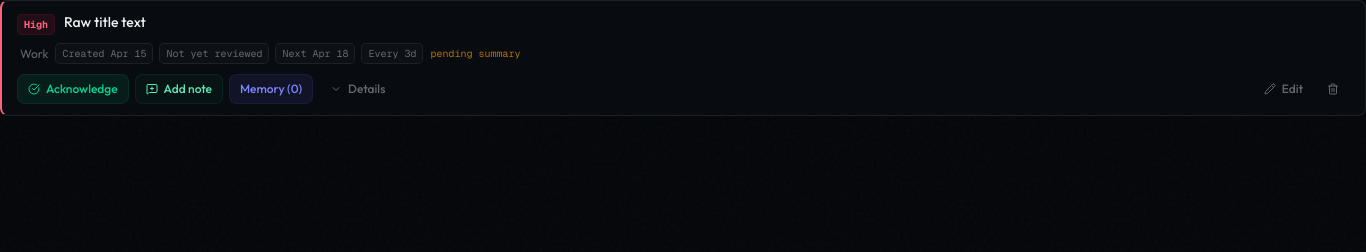
Test: TriggerCard › shows full_content when Details expander is toggled
Click the button "Details": (358, 89) [320,75,395,103]
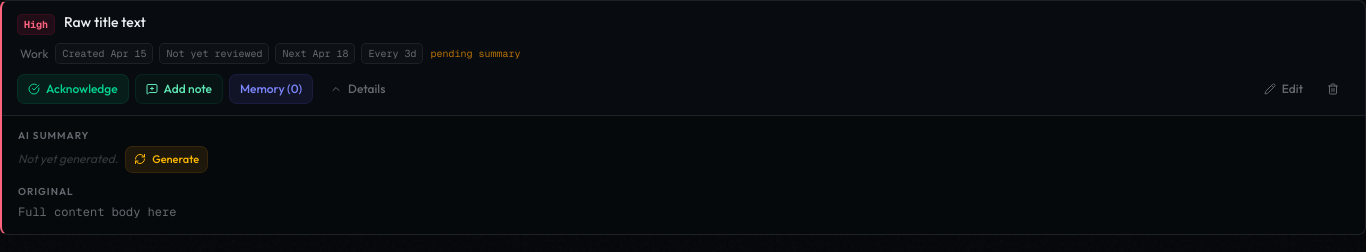
Result: the text "Original" is shown at [18,184,74,198]
Result: the text "Full content body here" is shown at [18,204,176,220]
